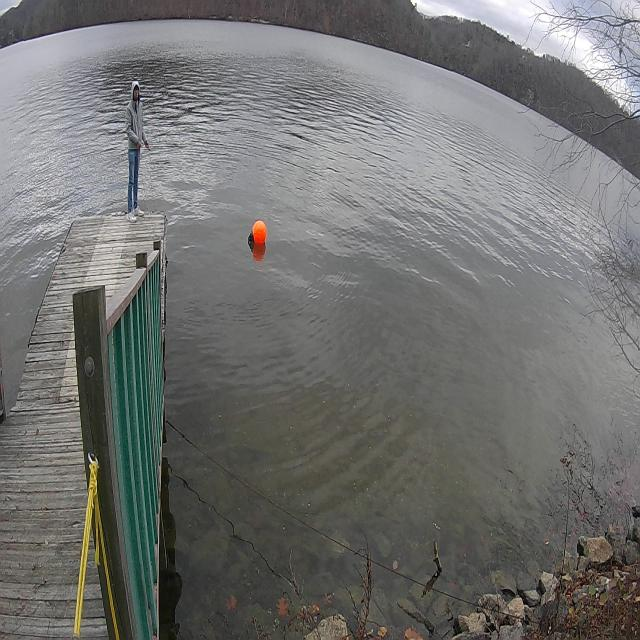Buoy: (244, 215, 270, 254)
